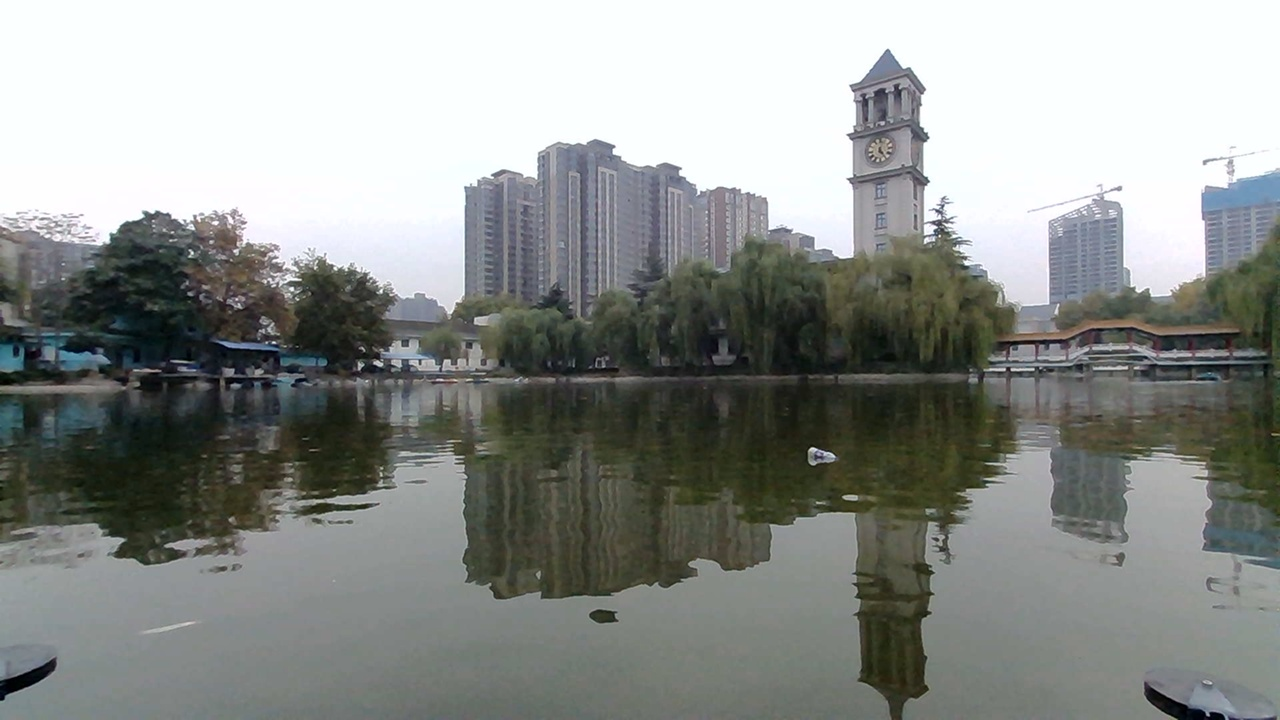bottle: (798, 439, 837, 469)
